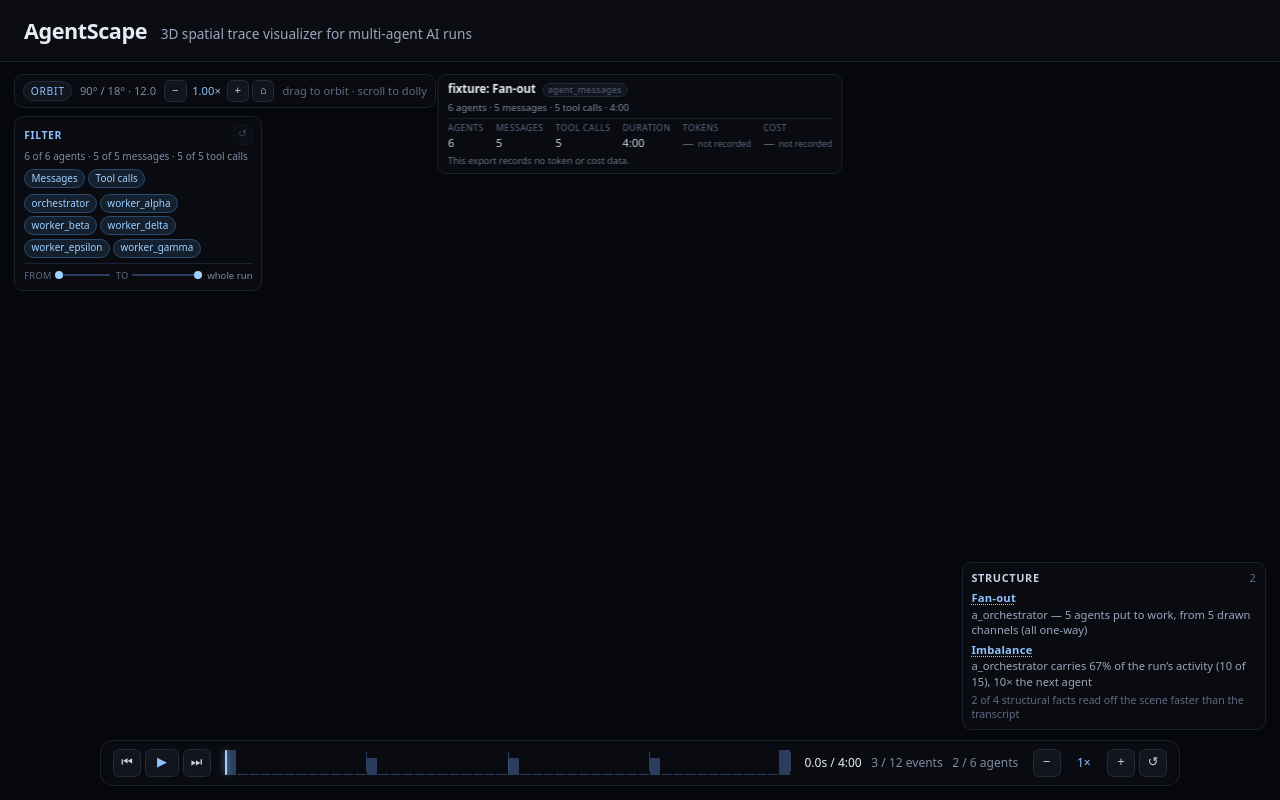
Test: App shell (M1-T1) › focuses on one agent with a double-click on its chip (M4-T5)
The image size is (1280, 800).
Double-click the button with test id "filter-agent-a_worker_alpha" at [139, 204], box [100, 194, 178, 213]
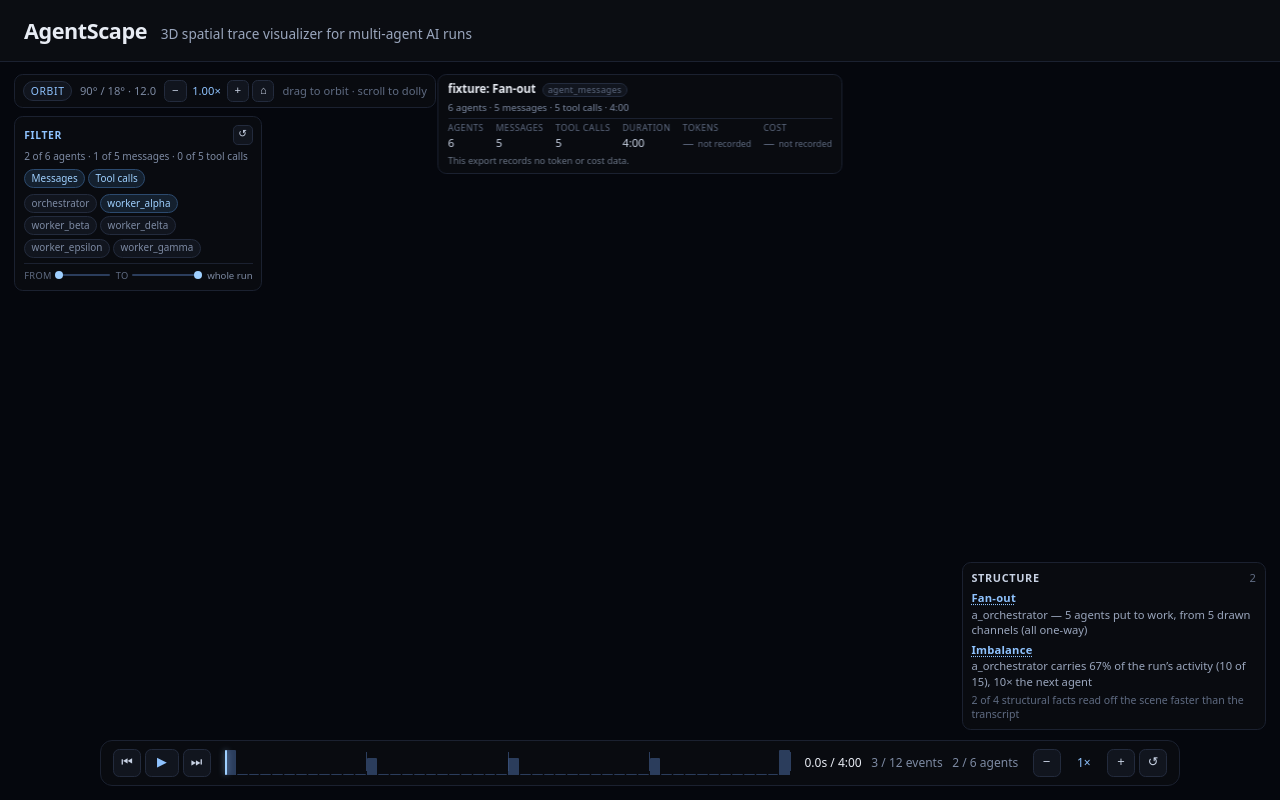
Expected: the text with test id "filter-summary" reads "2 of 6 agents · 1 of 5 messages · 0 of 5 tool calls", [24, 149, 248, 163]
